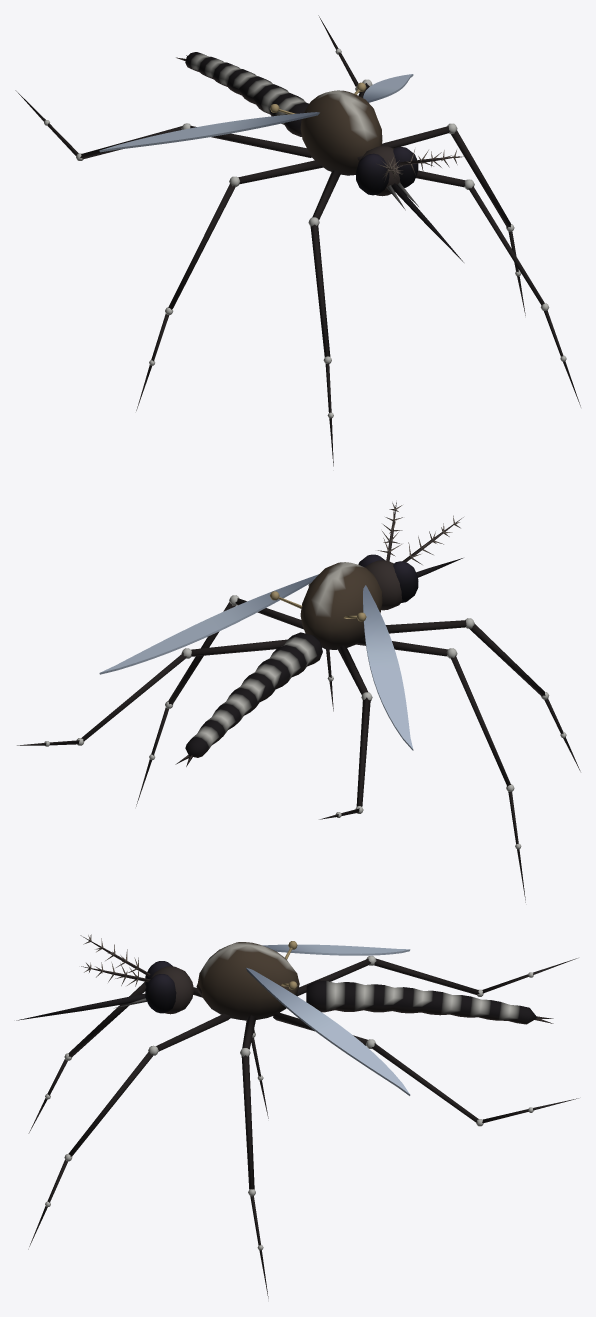
Rendered from Mosquito.fbx.
The picture shows the model from 3 angles, top to bottom: view 1: azimuth 30°, elevation 25°; view 2: azimuth 150°, elevation 25°; view 3: azimuth 270°, elevation 25°; orthographic projection. The views are drawn at different scales.
Parts seen in each view (by area): view 1: Mosquito; view 2: Mosquito; view 3: Mosquito.
Boxes of the visible parts, <box> form: Mosquito: <box>15,15,580,466</box>; Mosquito: <box>17,502,580,902</box>; Mosquito: <box>16,934,578,1298</box>.
Bounding box in the file's own units: 1.26 × 0.8658 × 1.67.
